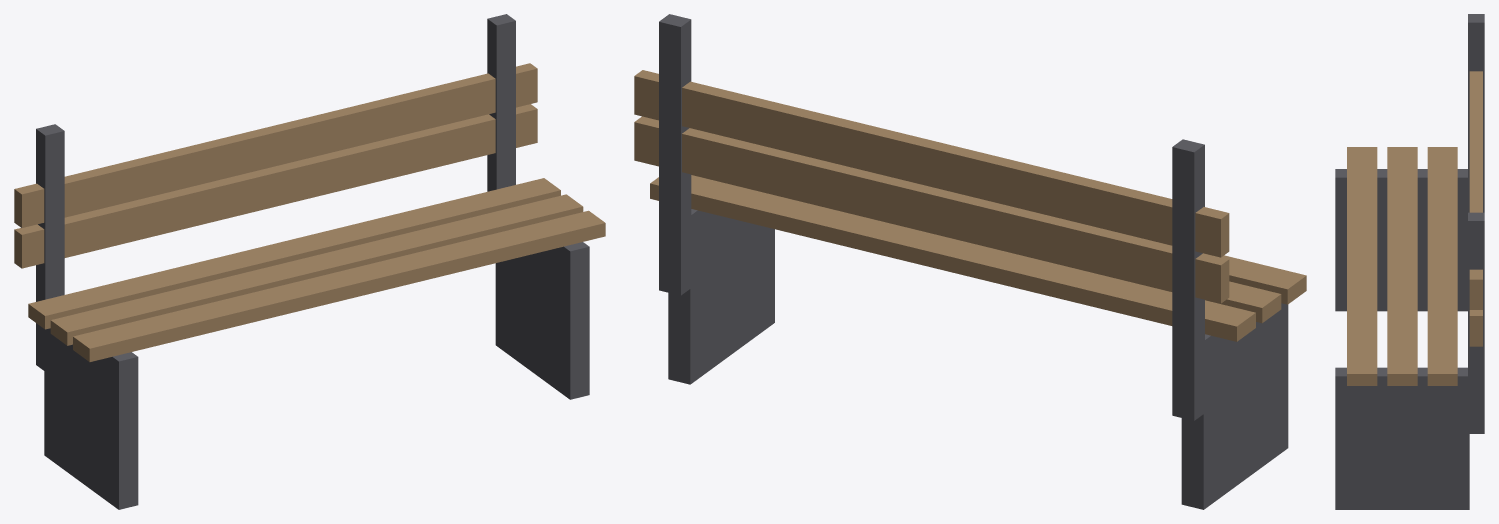
The model's file is banco.glb.
3 views of the same model, side by side, from view 1: azimuth 30°, elevation 25°; view 2: azimuth 150°, elevation 25°; view 3: azimuth 270°, elevation 25° (orthographic). The views are drawn at different scales.
Parts seen in each view (by area): view 1: banco; view 2: banco; view 3: banco.
Boxes of the visible parts, x1,y1,x2,y2 form: banco: [14, 14, 605, 509]; banco: [634, 14, 1306, 509]; banco: [1335, 14, 1484, 509].
Size of the model in its own units: 1.6 by 0.95 by 0.445.
